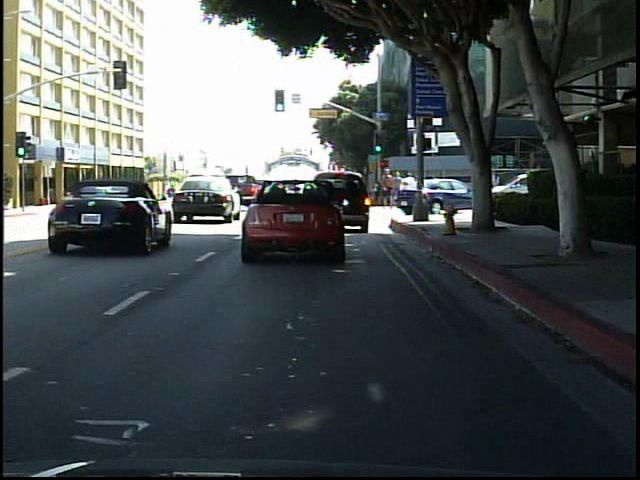person: (551, 152, 577, 242), (378, 165, 398, 212), (113, 177, 132, 204)
